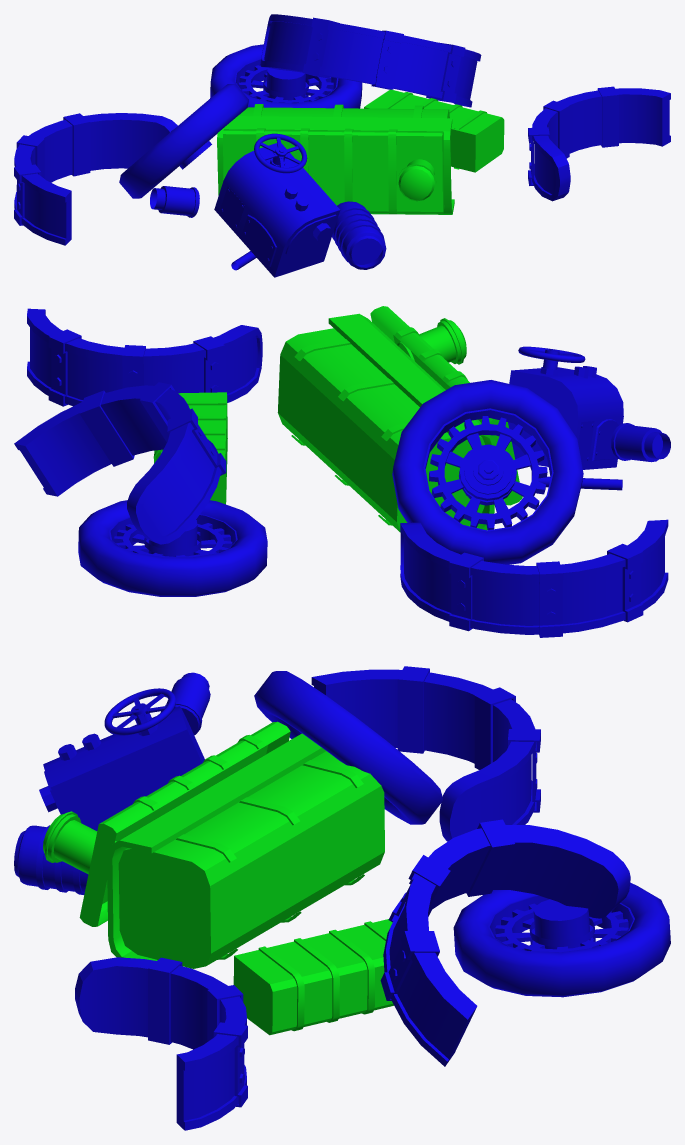
The model's file is SM_town_vehicle_PROP2.fbx.
3 views of the same model, one above another, from view 1: azimuth 30°, elevation 25°; view 2: azimuth 150°, elevation 25°; view 3: azimuth 270°, elevation 25° (orthographic). The views are drawn at different scales.
Parts seen in each view (by area): view 1: back_tire_low.005, jim_bot_low.005; view 2: back_tire_low.005, jim_bot_low.005; view 3: back_tire_low.005, jim_bot_low.005.
Part boxes in pixels (x1=…): back_tire_low.005: x1=14, y1=14, x2=670, y2=277; jim_bot_low.005: x1=217, y1=89, x2=504, y2=214; back_tire_low.005: x1=14, y1=308, x2=670, y2=637; jim_bot_low.005: x1=153, y1=306, x2=522, y2=532; back_tire_low.005: x1=14, y1=666, x2=670, y2=1130; jim_bot_low.005: x1=43, y1=721, x2=393, y2=1035.
Bounding box in the file's own units: 433 × 91.35 × 305.
